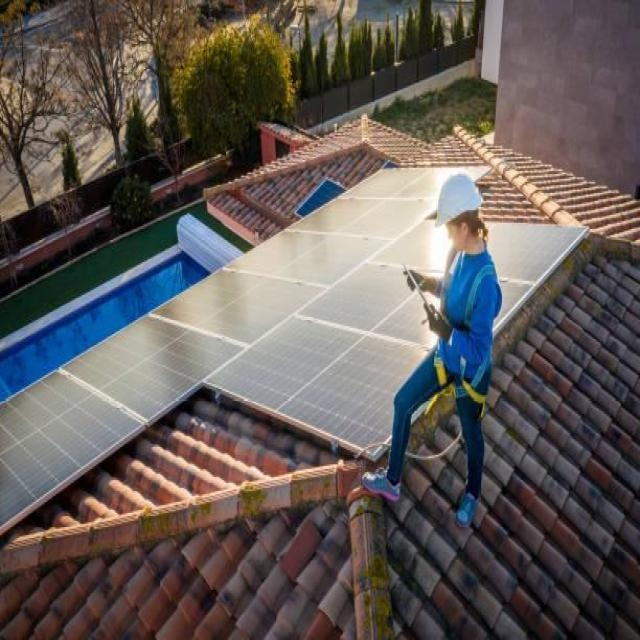Arnes_seguridad: (436, 247, 504, 406)
